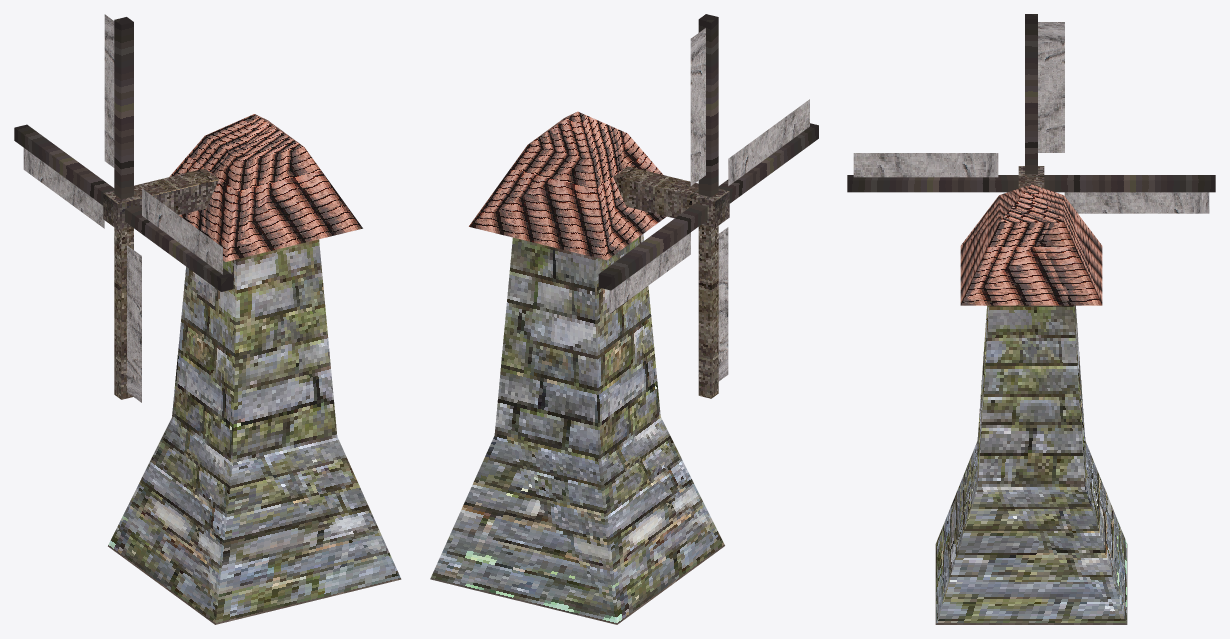
File: windmill_hill.glb
The picture shows the model from 3 angles, left to right: view 1: azimuth 30°, elevation 25°; view 2: azimuth 150°, elevation 25°; view 3: azimuth 270°, elevation 25°; orthographic projection. The views are drawn at different scales.
Parts seen in each view (by area): view 1: Windmill, Windblade; view 2: Windmill, Windblade; view 3: Windmill, Windblade.
Part boxes in pixels (x1,y1,x2,y2): Windmill: (108,114,401,624); Windblade: (14,14,233,402); Windmill: (430,111,724,624); Windblade: (598,14,818,398); Windmill: (935,184,1127,624); Windblade: (847,14,1215,213).
Bounding box in the file's own units: 9.02 × 20.87 × 13.63.
Materials: 4 (4 with a texture image).
